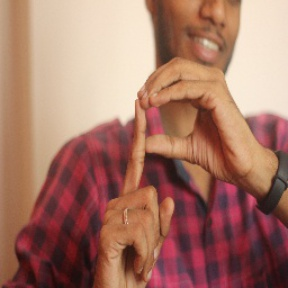P: (84, 55, 252, 259)
